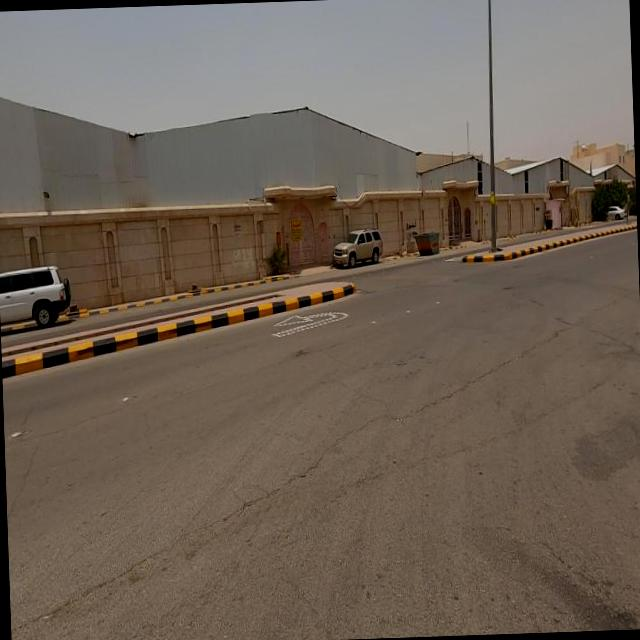debris: (386, 196, 436, 261)
